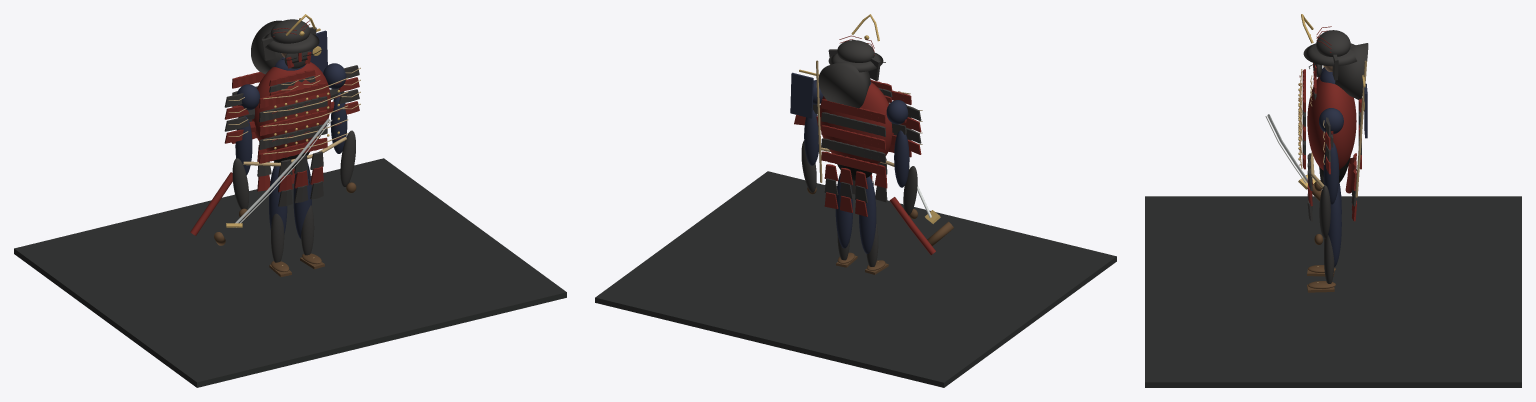
Rendered from actor-takeda-00.glb.
The picture shows the model from 3 angles, left to right: view 1: azimuth 30°, elevation 25°; view 2: azimuth 150°, elevation 25°; view 3: azimuth 270°, elevation 25°; orthographic projection. The views are drawn at different scales.
Parts seen in each view (by area): view 1: matte charcoal inspection plinth, rounded do cuirass silhouette, rear shikoro neck guard flare, segmented kabuto helmet bowl, right armored upper arm, right kote forearm guard, left kote forearm guard, wide kabuto brim, left hakama trouser leg, right hakama trouser leg, left armored upper arm, left shin greave (+2 smaller); view 2: matte charcoal inspection plinth, rear shikoro neck guard flare, rounded do cuirass silhouette, cloth sashimono banner panel, left hakama trouser leg, left armored upper arm, segmented kabuto helmet bowl, right hakama trouser leg, right armored upper arm, left kote forearm guard, lacquered saya scabbard at left hip; view 3: matte charcoal inspection plinth, rounded do cuirass silhouette, rear shikoro neck guard flare, segmented kabuto helmet bowl, right hakama trouser leg, wide kabuto brim, right armored upper arm, right kote forearm guard, right shoulder undercloth, right shin greave, bamboo sashimono back pole.
Boxes of the visible parts, bbox=[...] form: matte charcoal inspection plinth: bbox=[14, 158, 566, 387]; rounded do cuirass silhouette: bbox=[252, 62, 330, 151]; rear shikoro neck guard flare: bbox=[251, 20, 283, 74]; segmented kabuto helmet bowl: bbox=[270, 19, 310, 43]; right armored upper arm: bbox=[330, 93, 347, 153]; right kote forearm guard: bbox=[340, 130, 355, 186]; left kote forearm guard: bbox=[232, 158, 248, 209]; wide kabuto brim: bbox=[261, 33, 319, 53]; left hakama trouser leg: bbox=[269, 166, 287, 234]; right hakama trouser leg: bbox=[293, 163, 311, 239]; left armored upper arm: bbox=[235, 116, 252, 174]; left shin greave: bbox=[271, 213, 284, 262]; matte charcoal inspection plinth: bbox=[595, 171, 1116, 387]; rear shikoro neck guard flare: bbox=[818, 61, 870, 108]; rounded do cuirass silhouette: bbox=[820, 82, 893, 164]; cloth sashimono banner panel: bbox=[790, 72, 813, 118]; left hakama trouser leg: bbox=[859, 176, 876, 253]; left armored upper arm: bbox=[894, 130, 909, 187]; segmented kabuto helmet bowl: bbox=[837, 40, 874, 62]; right hakama trouser leg: bbox=[835, 173, 852, 248]; right armored upper arm: bbox=[804, 110, 818, 165]; left kote forearm guard: bbox=[903, 166, 917, 215]; lacquered saya scabbard at left hip: bbox=[889, 197, 935, 254]; matte charcoal inspection plinth: bbox=[1145, 196, 1521, 387]; rounded do cuirass silhouette: bbox=[1307, 76, 1356, 170]; rear shikoro neck guard flare: bbox=[1335, 43, 1368, 99]; segmented kabuto helmet bowl: bbox=[1316, 30, 1350, 56]; right hakama trouser leg: bbox=[1328, 189, 1341, 267]; wide kabuto brim: bbox=[1303, 43, 1356, 66]; right armored upper arm: bbox=[1323, 142, 1339, 204]; right kote forearm guard: bbox=[1319, 185, 1330, 238]; right shoulder undercloth: bbox=[1319, 108, 1343, 134]; right shin greave: bbox=[1324, 235, 1334, 283]; bamboo sashimono back pole: bbox=[1355, 60, 1366, 197].
Size of the model in its own units: 4.2 by 2.96 by 3.6.
